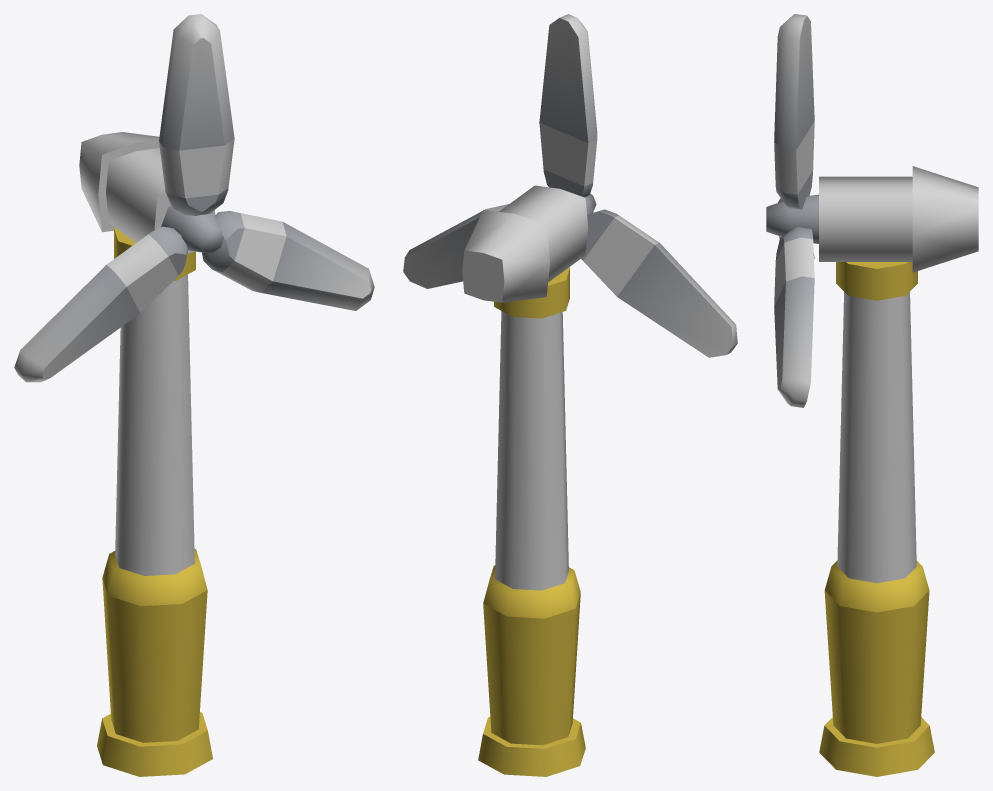
File: wind-turbine.glb
3 renders of one model, left to right at view 1: azimuth 30°, elevation 25°; view 2: azimuth 150°, elevation 25°; view 3: azimuth 270°, elevation 25°, orthographic. The views are drawn at different scales.
Parts seen in each view (by area): view 1: wind-turbine, blades; view 2: wind-turbine, blades; view 3: wind-turbine, blades.
Part boxes in pixels (x1,y1,x2,y2): wind-turbine: (79,132,223,776); blades: (14,14,374,382); wind-turbine: (462,185,596,776); blades: (403,14,737,357); wind-turbine: (766,166,978,776); blades: (774,14,814,407).
Size of the model in its own units: 0.6761 by 1.39 by 0.3629.
